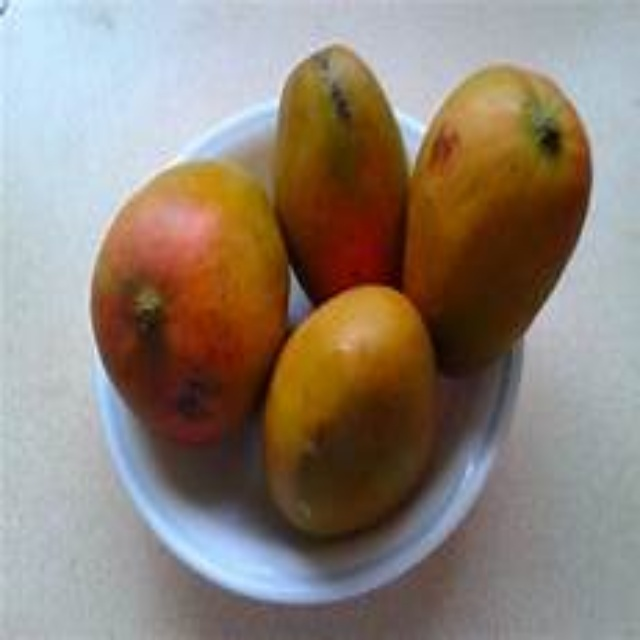mango: (86, 160, 294, 456), (402, 58, 596, 371), (265, 286, 438, 548), (276, 25, 412, 322)
